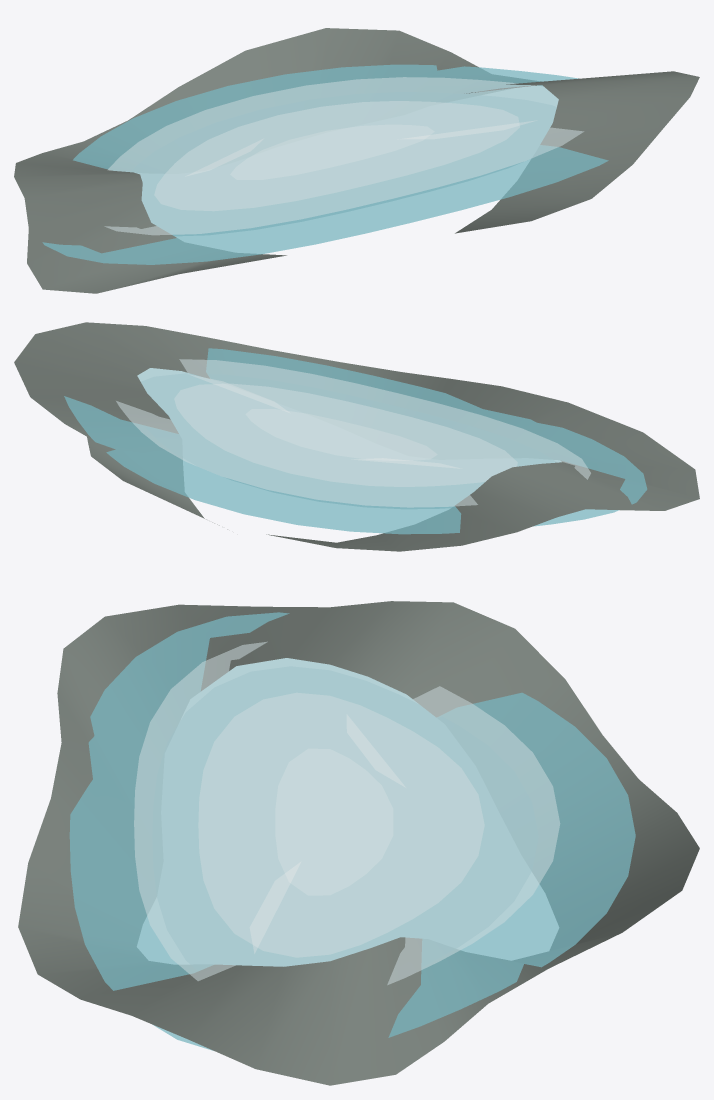
Rendered from water.gltf.
3 renders of one model, top to bottom at view 1: azimuth 30°, elevation 25°; view 2: azimuth 150°, elevation 25°; view 3: azimuth 270°, elevation 25°, orthographic. The views are drawn at different scales.
Visible parts, largest first — view 1: oval pond plane, wet stone rim, outer ripple ring, inner ripple ring, small wind ripple glint, thin specular ripple streak east; view 2: oval pond plane, wet stone rim, outer ripple ring, inner ripple ring, small wind ripple glint, thin specular ripple streak east; view 3: oval pond plane, wet stone rim, outer ripple ring, inner ripple ring, small wind ripple glint, thin specular ripple streak east, thin specular ripple streak west.
Part boxes in pixels (x1,y1,x2,y2): oval pond plane: (42,64,608,264); wet stone rim: (14,28,699,293); outer ripple ring: (104,77,583,235); inner ripple ring: (154,101,519,210); small wind ripple glint: (230,124,434,179); thin specular ripple streak east: (404,120,536,138); oval pond plane: (64,348,647,534); wet stone rim: (14,322,699,551); outer ripple ring: (116,359,590,507); inner ripple ring: (174,384,517,486); small wind ripple glint: (245,409,437,460); thin specular ripple streak east: (191,375,289,412); oval pond plane: (69,612,635,1050); wet stone rim: (18,601,699,1085); outer ripple ring: (134,641,560,984); inner ripple ring: (198,693,484,957); small wind ripple glint: (275,748,393,895); thin specular ripple streak east: (250,862,300,953); thin specular ripple streak west: (347,715,405,787).
Size of the model in its own units: 3.6 by 0.4461 by 2.06.
